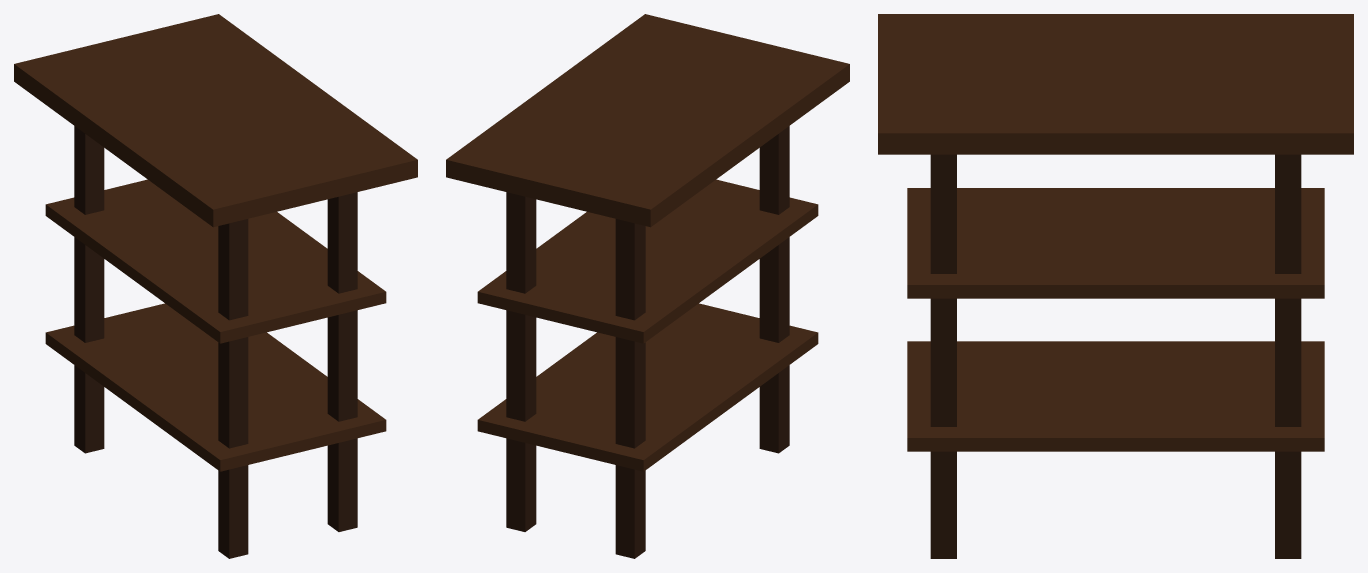
The model's file is Etagere2.fbx.
3 renders of one model, left to right at view 1: azimuth 30°, elevation 25°; view 2: azimuth 150°, elevation 25°; view 3: azimuth 270°, elevation 25°, orthographic. The views are drawn at different scales.
Parts seen in each view (by area): view 1: Etagere2; view 2: Etagere2; view 3: Etagere2.
Part boxes in pixels (x1,y1,x2,y2): Etagere2: (14, 14, 417, 558); Etagere2: (446, 14, 849, 558); Etagere2: (878, 14, 1353, 558).
Size of the model in its own units: 59.37 by 104 by 100.
